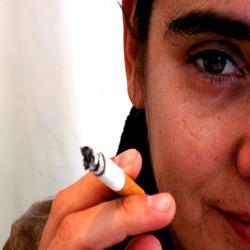smoking: (39, 141, 179, 250)
